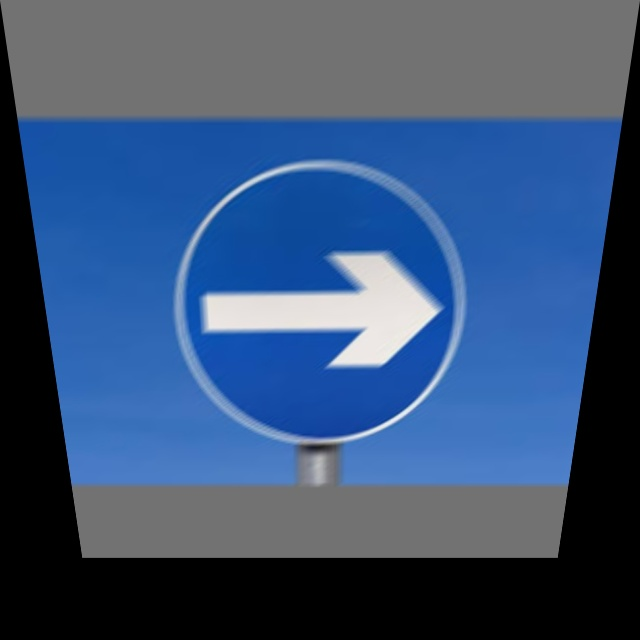Compulsory_Turn_Right: (171, 158, 472, 440)
